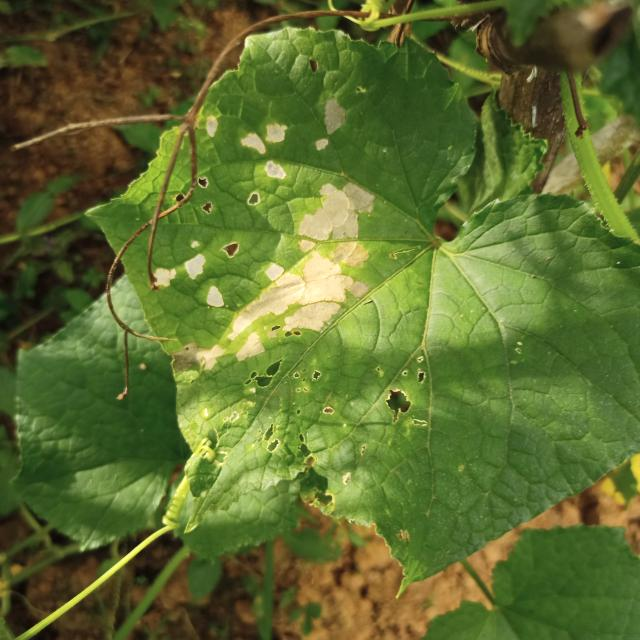disease_cucumber: (151, 96, 378, 375)
